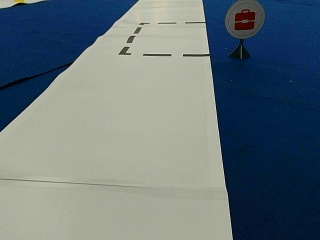company: (225, 1, 264, 37)
